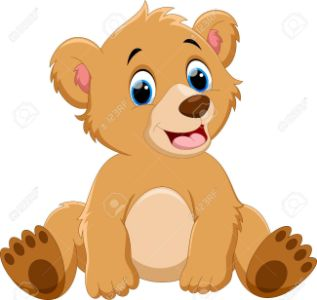bear: (12, 8, 309, 296)
